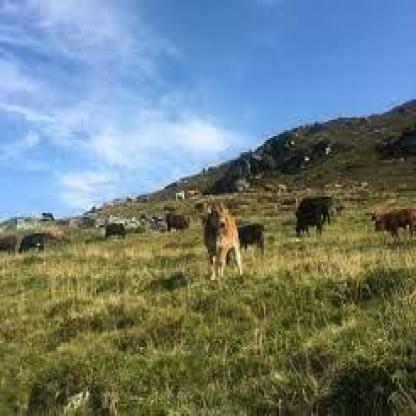cow: (198, 202, 238, 285), (373, 209, 416, 238), (235, 223, 266, 254), (19, 232, 44, 255), (102, 223, 128, 240)
